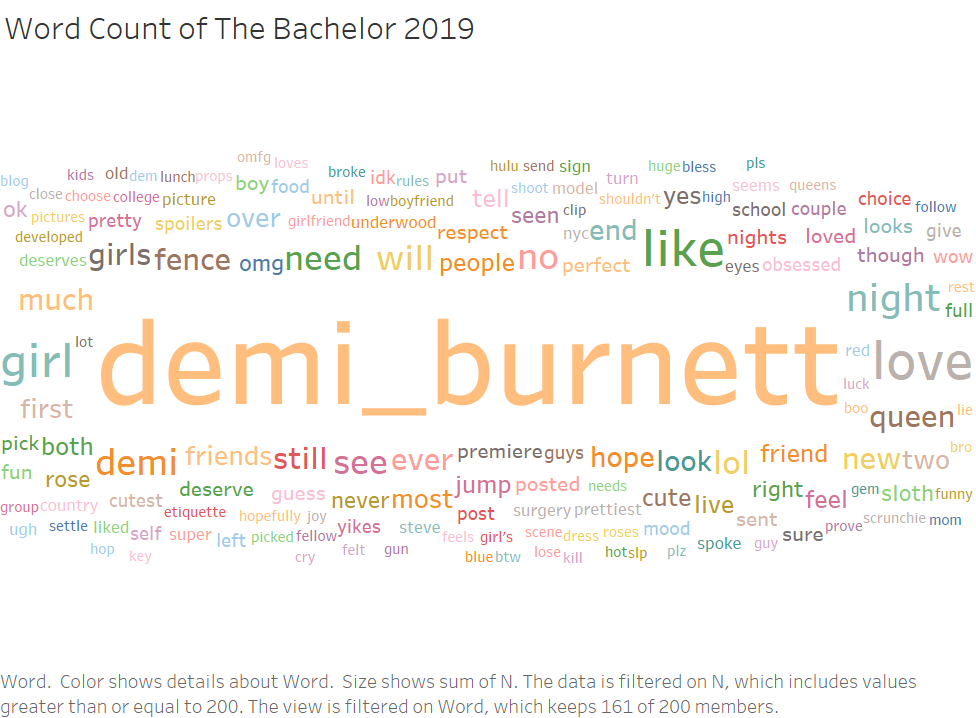

This screenshot's page, from the dashboard's own definition file:
{"tool":"tableau","page":{"name":"Dashboard 4","canvas":[1000,800],"ordinal":3},"visuals":[{"type":"dashboard-object","box":[829,6,164,52]},{"type":"worksheet","title":"Sheet 5","mark":"Text","box":[8,8,984,703]},{"type":"filter","title":"Sheet 5","param":"[federated.1u216qx1qerq2l1d4yfo60xvxc4d].[none:n:qk]","box":[8,711,984,81]}]}

Visuals, with their boxes on the page's 1000x800 design canvas (x1, y1, x2, y2). These are canvas units, not pixel positions in the 976x718 screenshot, which may show the page scaled, cropped or inside an application window:
dashboard-object: [829, 6, 993, 58]
"Sheet 5" worksheet (Text marks): [8, 8, 992, 711]
"Sheet 5" filter: [8, 711, 992, 792]
